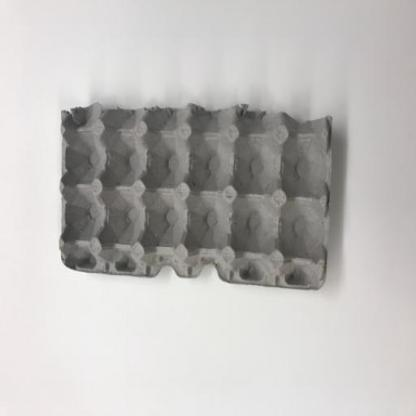trash: (53, 98, 329, 288)
